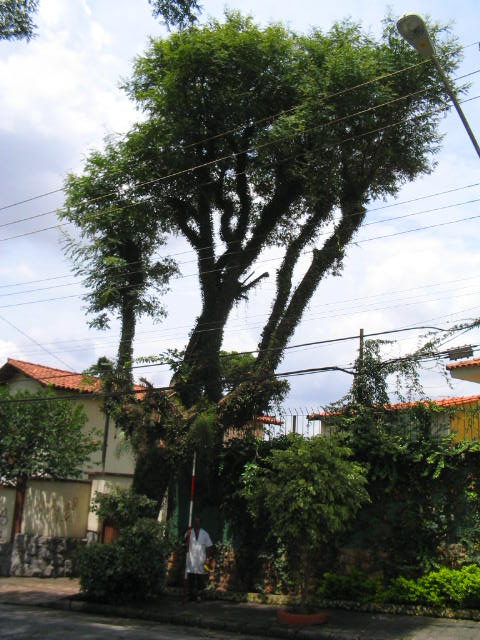crown: (58, 6, 473, 342)
stem: (92, 447, 177, 609)
stick: (175, 448, 201, 605)
tree: (57, 5, 475, 610)
